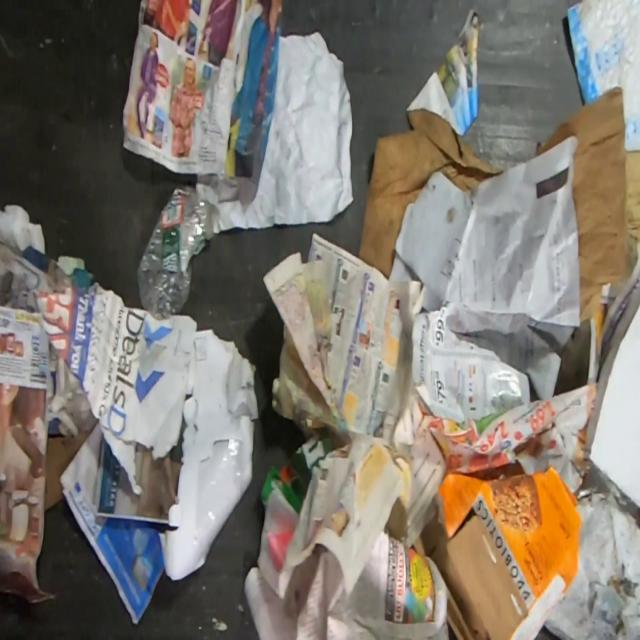cardboard: (413, 463, 584, 640), (537, 86, 640, 321)
rigid_plastic: (137, 182, 208, 320)
soft_plastic: (566, 0, 640, 151)
